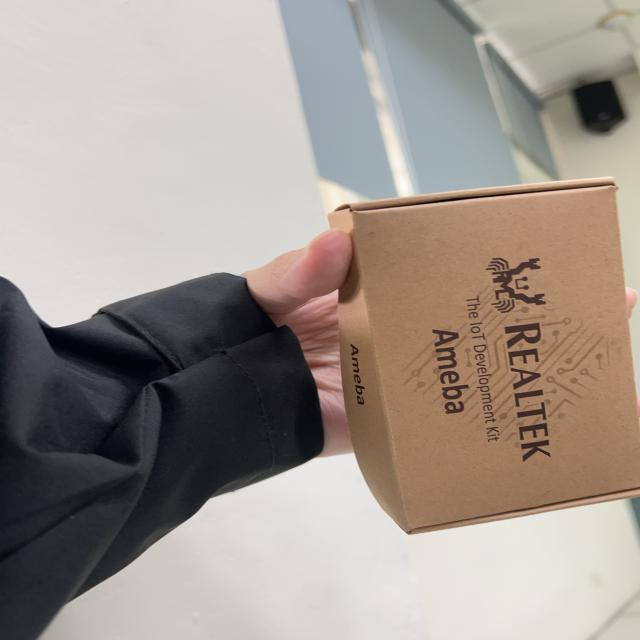box: (326, 182, 640, 542)
